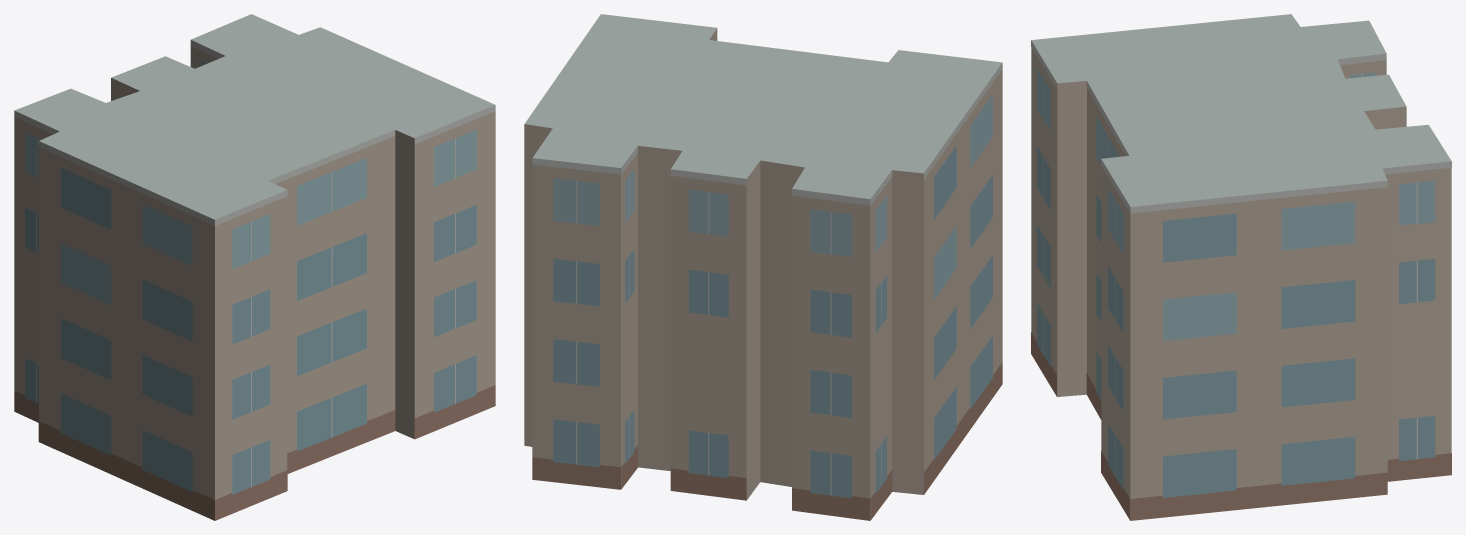
Rendered from survey-upis-32584519.glb.
3 views of the same model, side by side, from view 1: azimuth 30°, elevation 25°; view 2: azimuth 150°, elevation 25°; view 3: azimuth 270°, elevation 25° (orthographic). The views are drawn at different scales.
Parts seen in each view (by area): view 1: survey-upis-32584519.tmp; view 2: survey-upis-32584519.tmp; view 3: survey-upis-32584519.tmp.
Boxes of the visible parts, x1=… form: survey-upis-32584519.tmp: x1=14, y1=14, x2=495, y2=520; survey-upis-32584519.tmp: x1=524, y1=14, x2=1002, y2=520; survey-upis-32584519.tmp: x1=1031, y1=14, x2=1451, y2=520.
Size of the model in its own units: 15.84 by 12 by 14.59.
